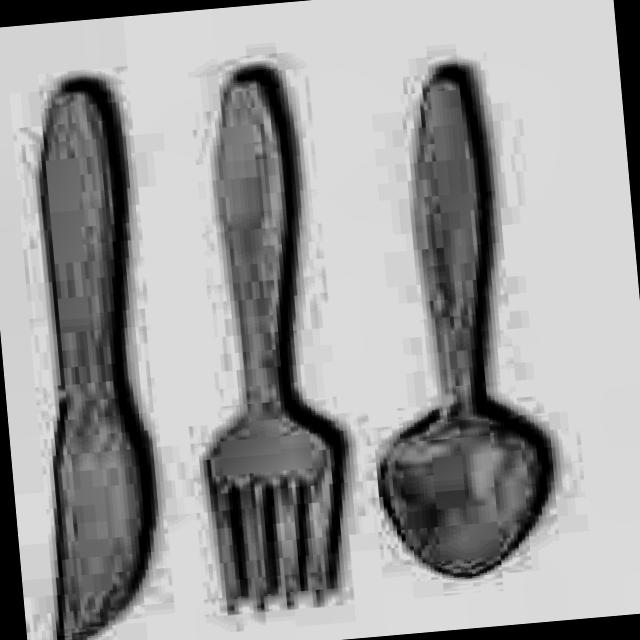plastic utensil: (0, 0, 640, 640), (379, 69, 554, 578), (206, 72, 340, 612), (39, 83, 154, 640)
